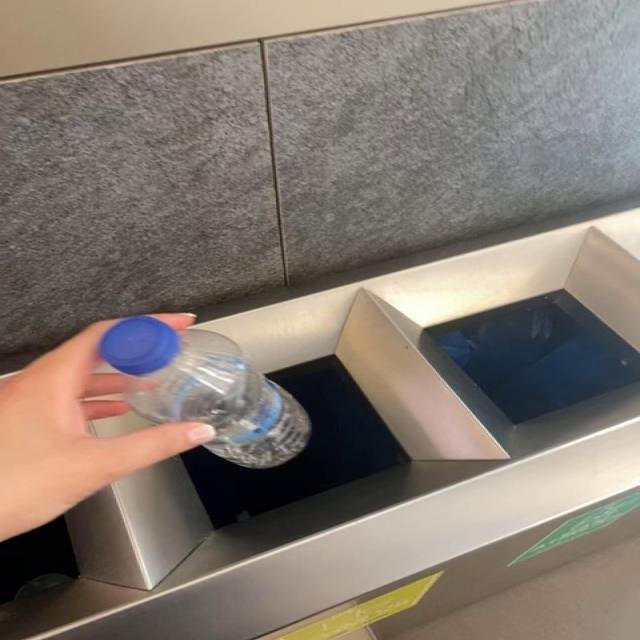plastic: (99, 316, 312, 470)
